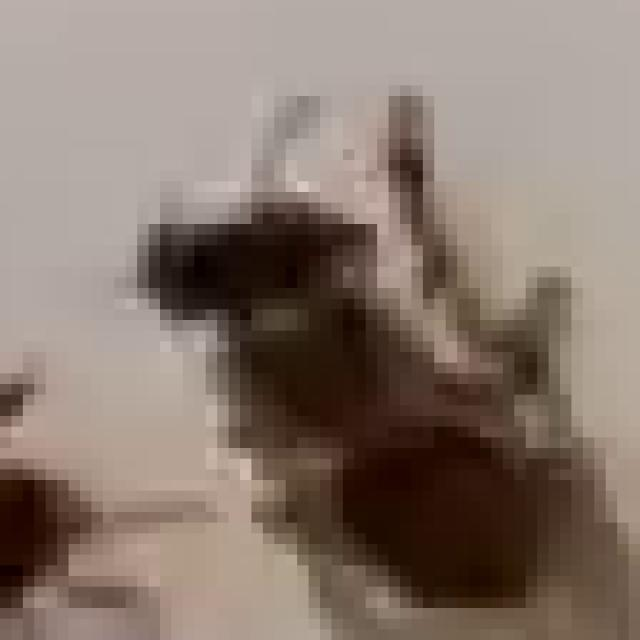honeybee: (141, 147, 620, 614)
